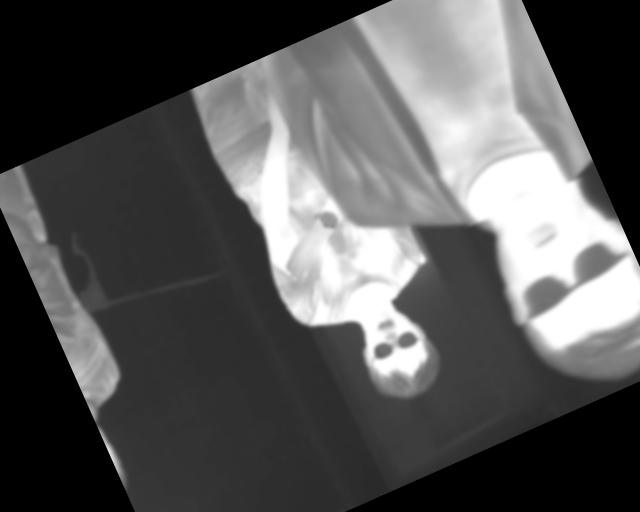face: (466, 162, 640, 411), (345, 292, 450, 411)
